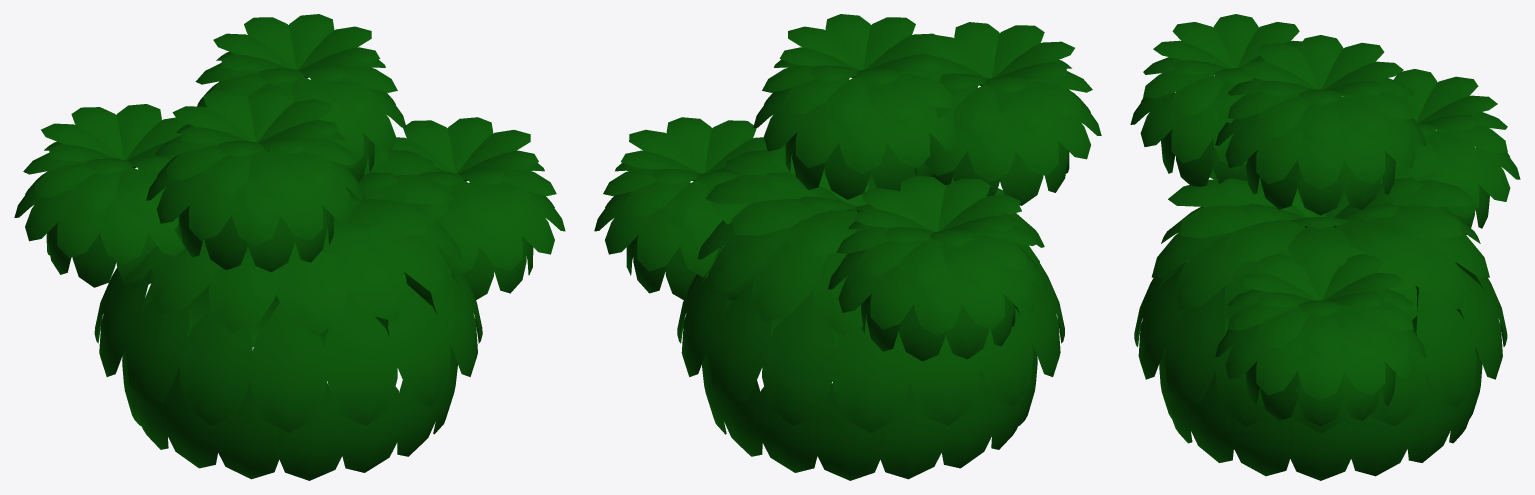
The model's file is mdl_TreeTopLeaves.fbx.
3 views of the same model, side by side, from view 1: azimuth 30°, elevation 25°; view 2: azimuth 150°, elevation 25°; view 3: azimuth 270°, elevation 25° (orthographic). The views are drawn at different scales.
Parts seen in each view (by area): view 1: TreeTopLeaves; view 2: TreeTopLeaves; view 3: TreeTopLeaves.
Part boxes in pixels (x1,y1,x2,y2): TreeTopLeaves: (14, 14, 565, 480); TreeTopLeaves: (594, 14, 1101, 480); TreeTopLeaves: (1130, 14, 1520, 480).
Bounding box in the file's own units: 795 × 595 × 591.
